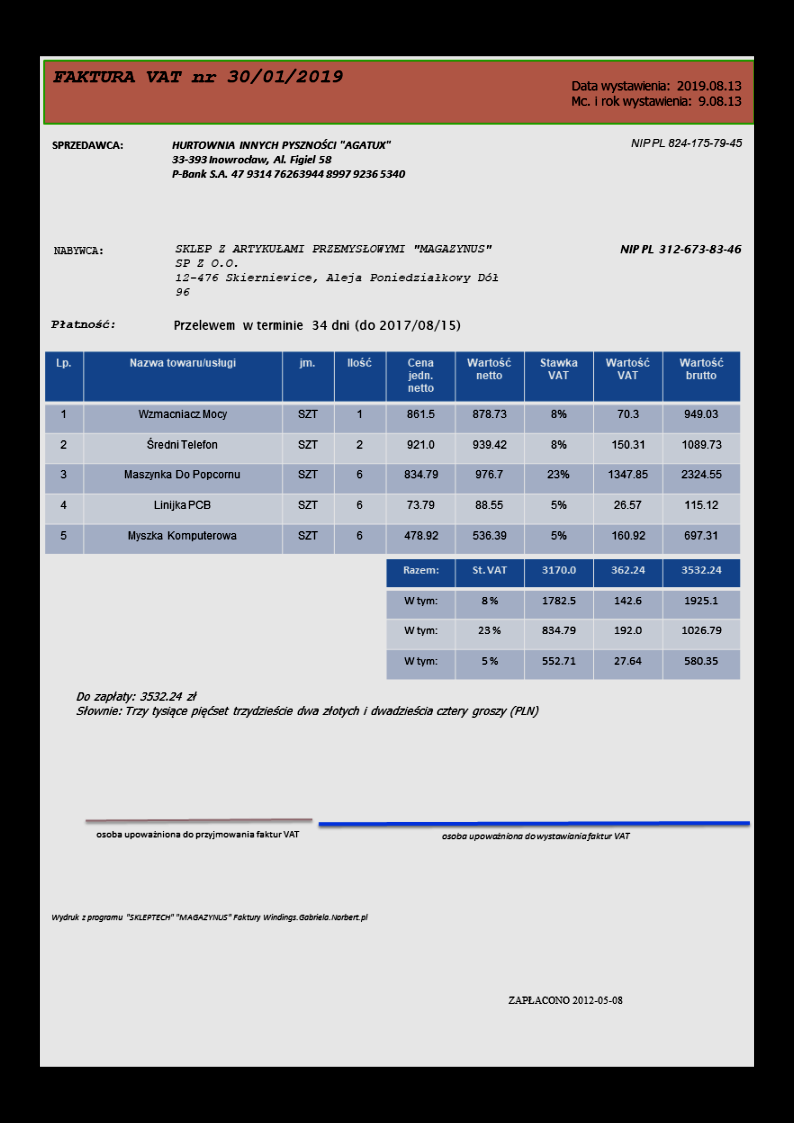Table: (43, 350, 742, 556), (385, 557, 742, 680), (74, 688, 540, 720)
TextBox: (171, 241, 501, 299), (169, 138, 407, 181), (51, 65, 344, 88), (568, 77, 744, 108), (49, 910, 370, 925), (171, 317, 462, 333), (93, 828, 301, 841), (439, 830, 632, 843), (617, 242, 744, 257), (628, 135, 744, 151), (507, 993, 624, 1006), (50, 316, 116, 332), (50, 138, 124, 152), (51, 243, 105, 256)
